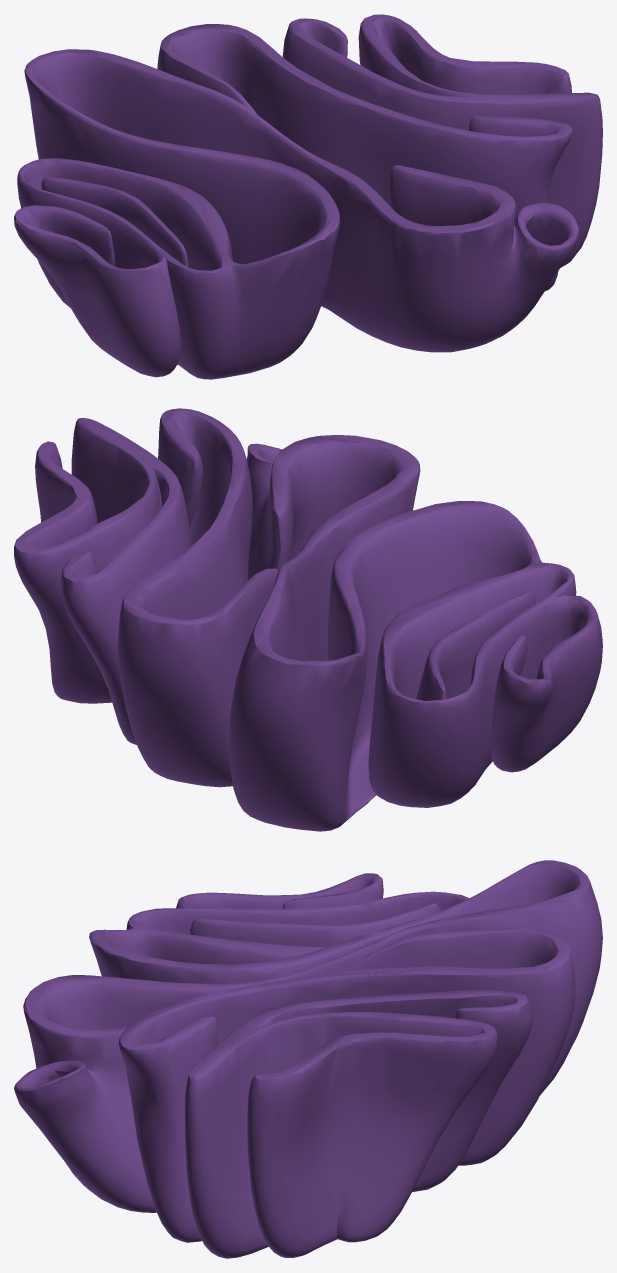
Rendered from AparatoGolgi.glb.
3 views of the same model, one above another, from view 1: azimuth 30°, elevation 25°; view 2: azimuth 150°, elevation 25°; view 3: azimuth 270°, elevation 25° (orthographic). The views are drawn at different scales.
Visible parts, largest first — view 1: AparatoGolgi; view 2: AparatoGolgi; view 3: AparatoGolgi.
Part boxes in pixels (x1,y1,x2,y2): AparatoGolgi: (14, 14, 602, 379); AparatoGolgi: (14, 408, 602, 831); AparatoGolgi: (14, 860, 602, 1258).
Size of the model in its own units: 0.6971 by 0.2353 by 0.6373.
